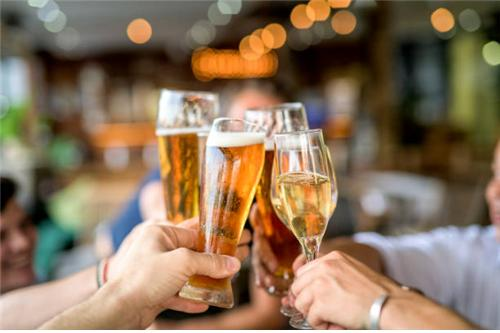alcohol: (179, 116, 258, 309), (242, 102, 313, 291), (156, 83, 218, 244), (271, 129, 337, 267)
